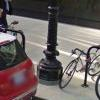Bicycle: (57, 39, 100, 96)
